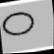no answer: (0, 7, 35, 40)
